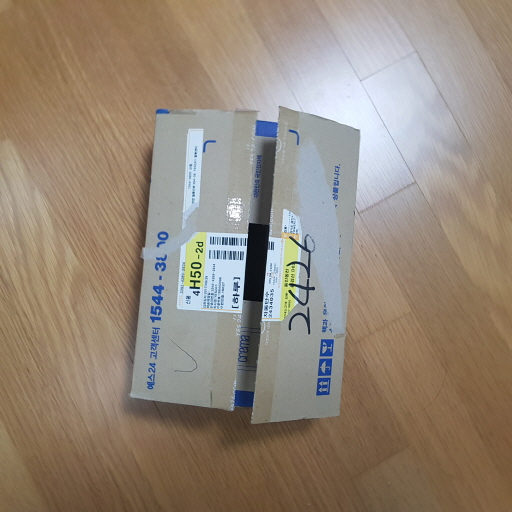Paper_0: (122, 89, 362, 431)
